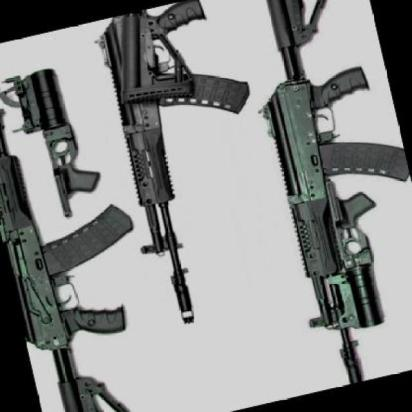Gun: (93, 0, 312, 335), (0, 26, 184, 412), (234, 0, 412, 389)
